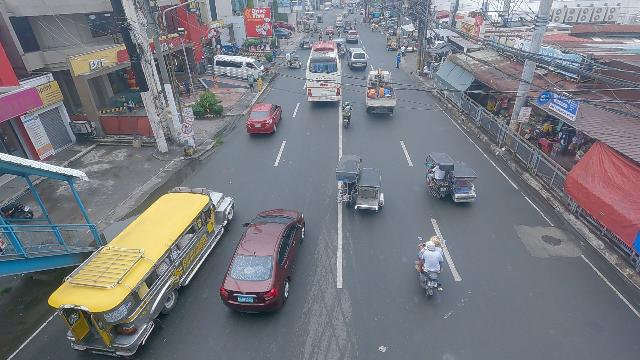bus: (304, 42, 346, 105)
car: (218, 209, 302, 311), (244, 102, 284, 136), (346, 30, 358, 43), (343, 22, 352, 33), (334, 19, 343, 28)
jeepney: (49, 189, 234, 357)
motorcycle: (413, 234, 448, 299), (339, 103, 353, 128), (318, 32, 323, 42), (328, 32, 332, 41), (337, 27, 340, 38)
truck: (363, 70, 398, 116)
van: (213, 54, 266, 80), (346, 47, 368, 71)
